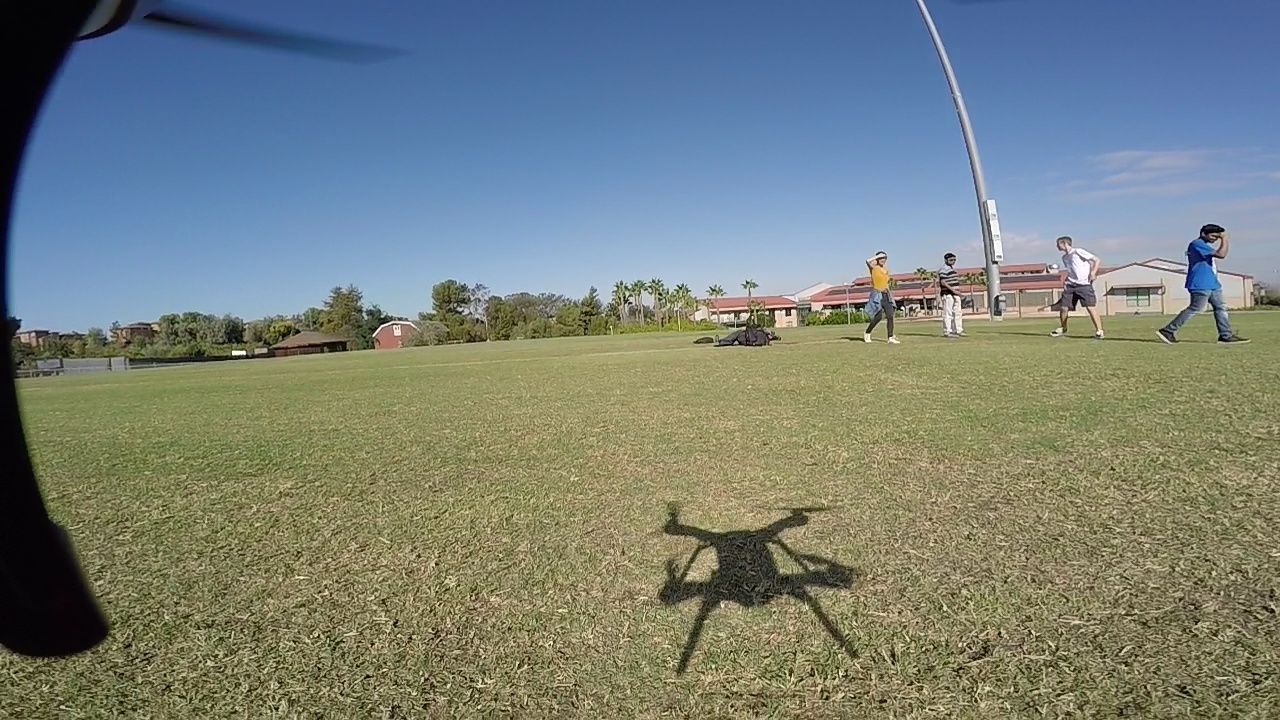person: (1156, 214, 1243, 339), (1054, 225, 1109, 336), (858, 242, 898, 338), (935, 243, 968, 332)
